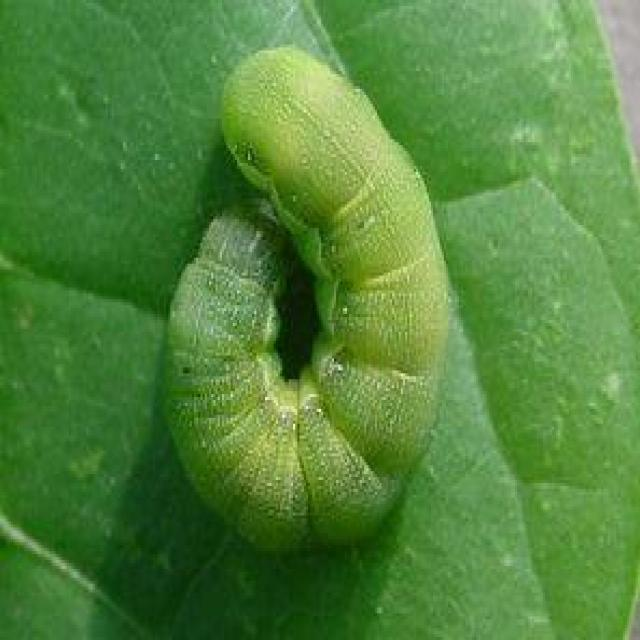BeetArmyWorm-Larva-: (152, 32, 459, 558)
